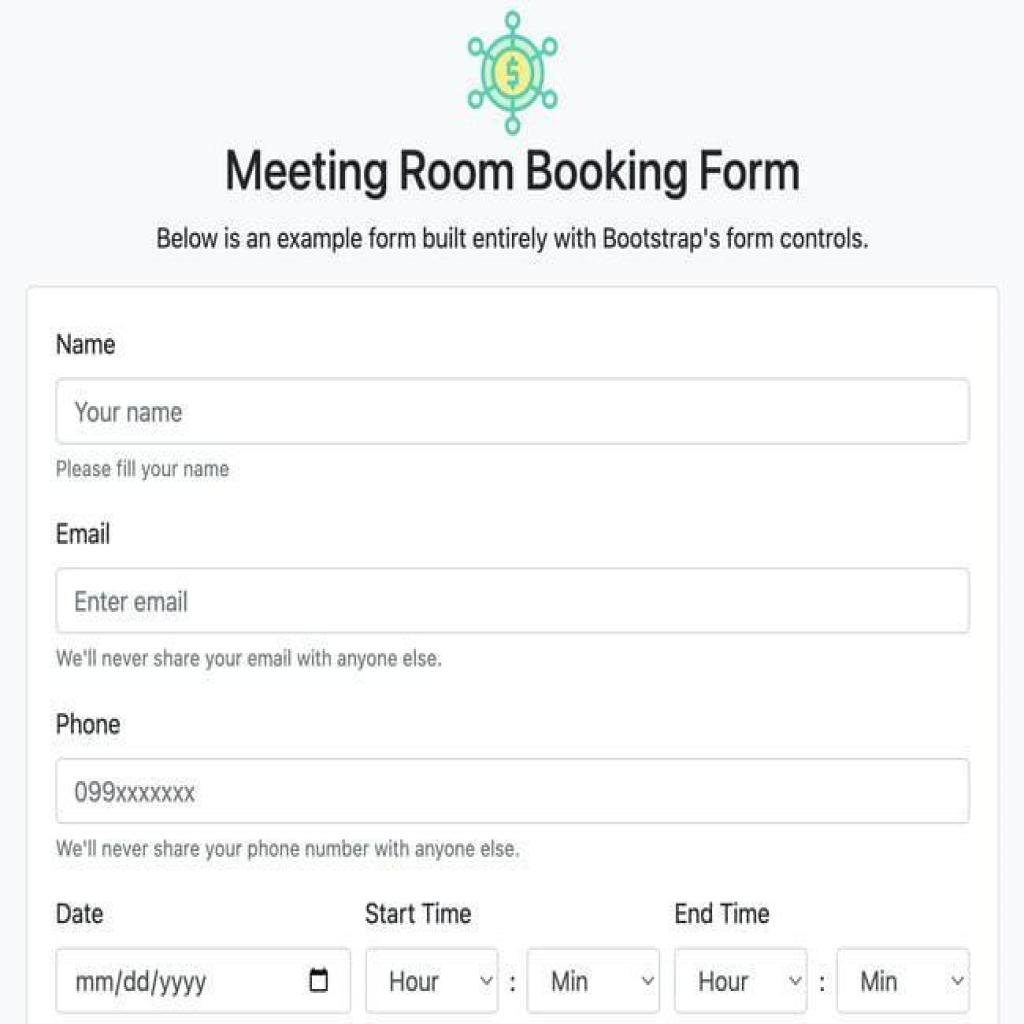dropdown: (837, 946, 972, 1016), (366, 946, 500, 1012), (528, 950, 662, 1012), (674, 948, 808, 1010)
input: (55, 758, 971, 828), (55, 377, 972, 443), (57, 566, 972, 632), (52, 948, 350, 1010)
label: (198, 140, 810, 208), (350, 888, 487, 931), (668, 892, 785, 936), (44, 890, 123, 935), (47, 702, 140, 740), (54, 322, 124, 364), (46, 513, 120, 550)
